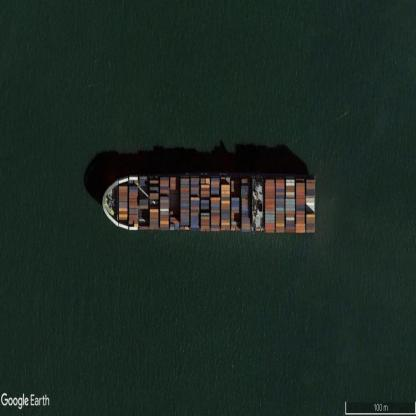ship: (102, 176, 317, 233)
